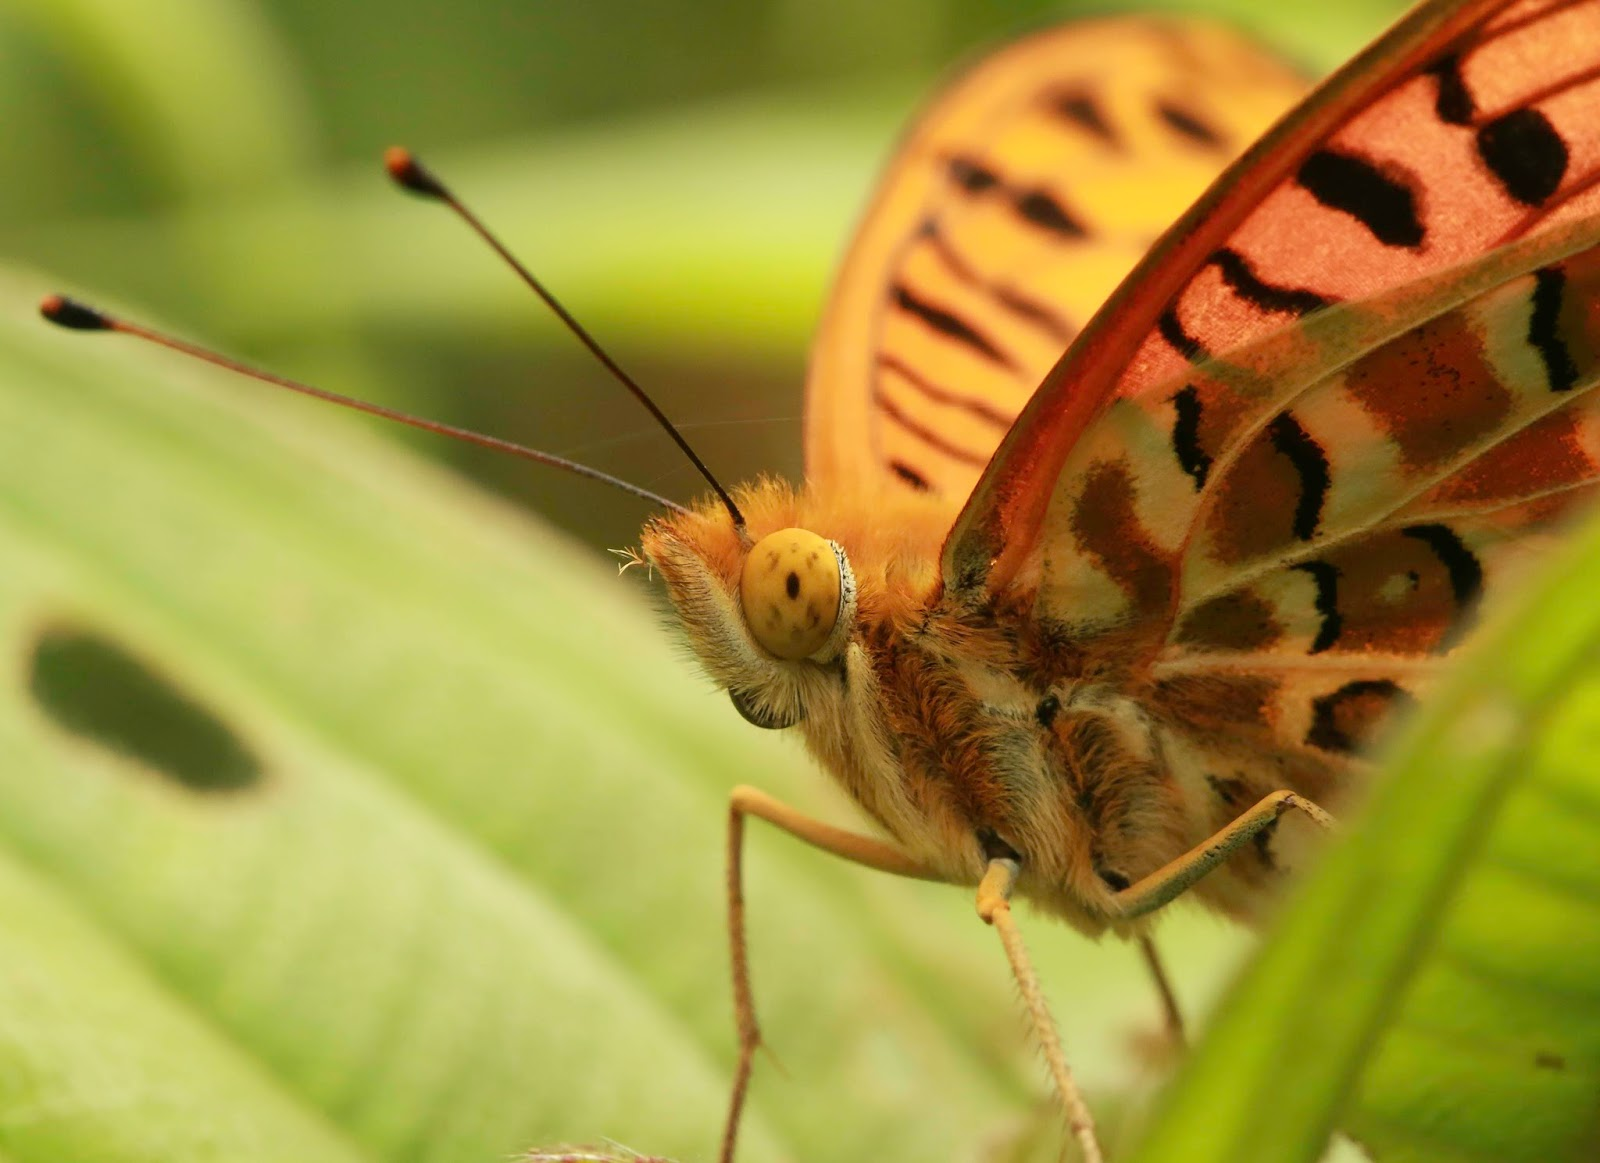Argyreus hyperbius: (39, 2, 1598, 1146)
butterfly: (41, 5, 1600, 1147)
